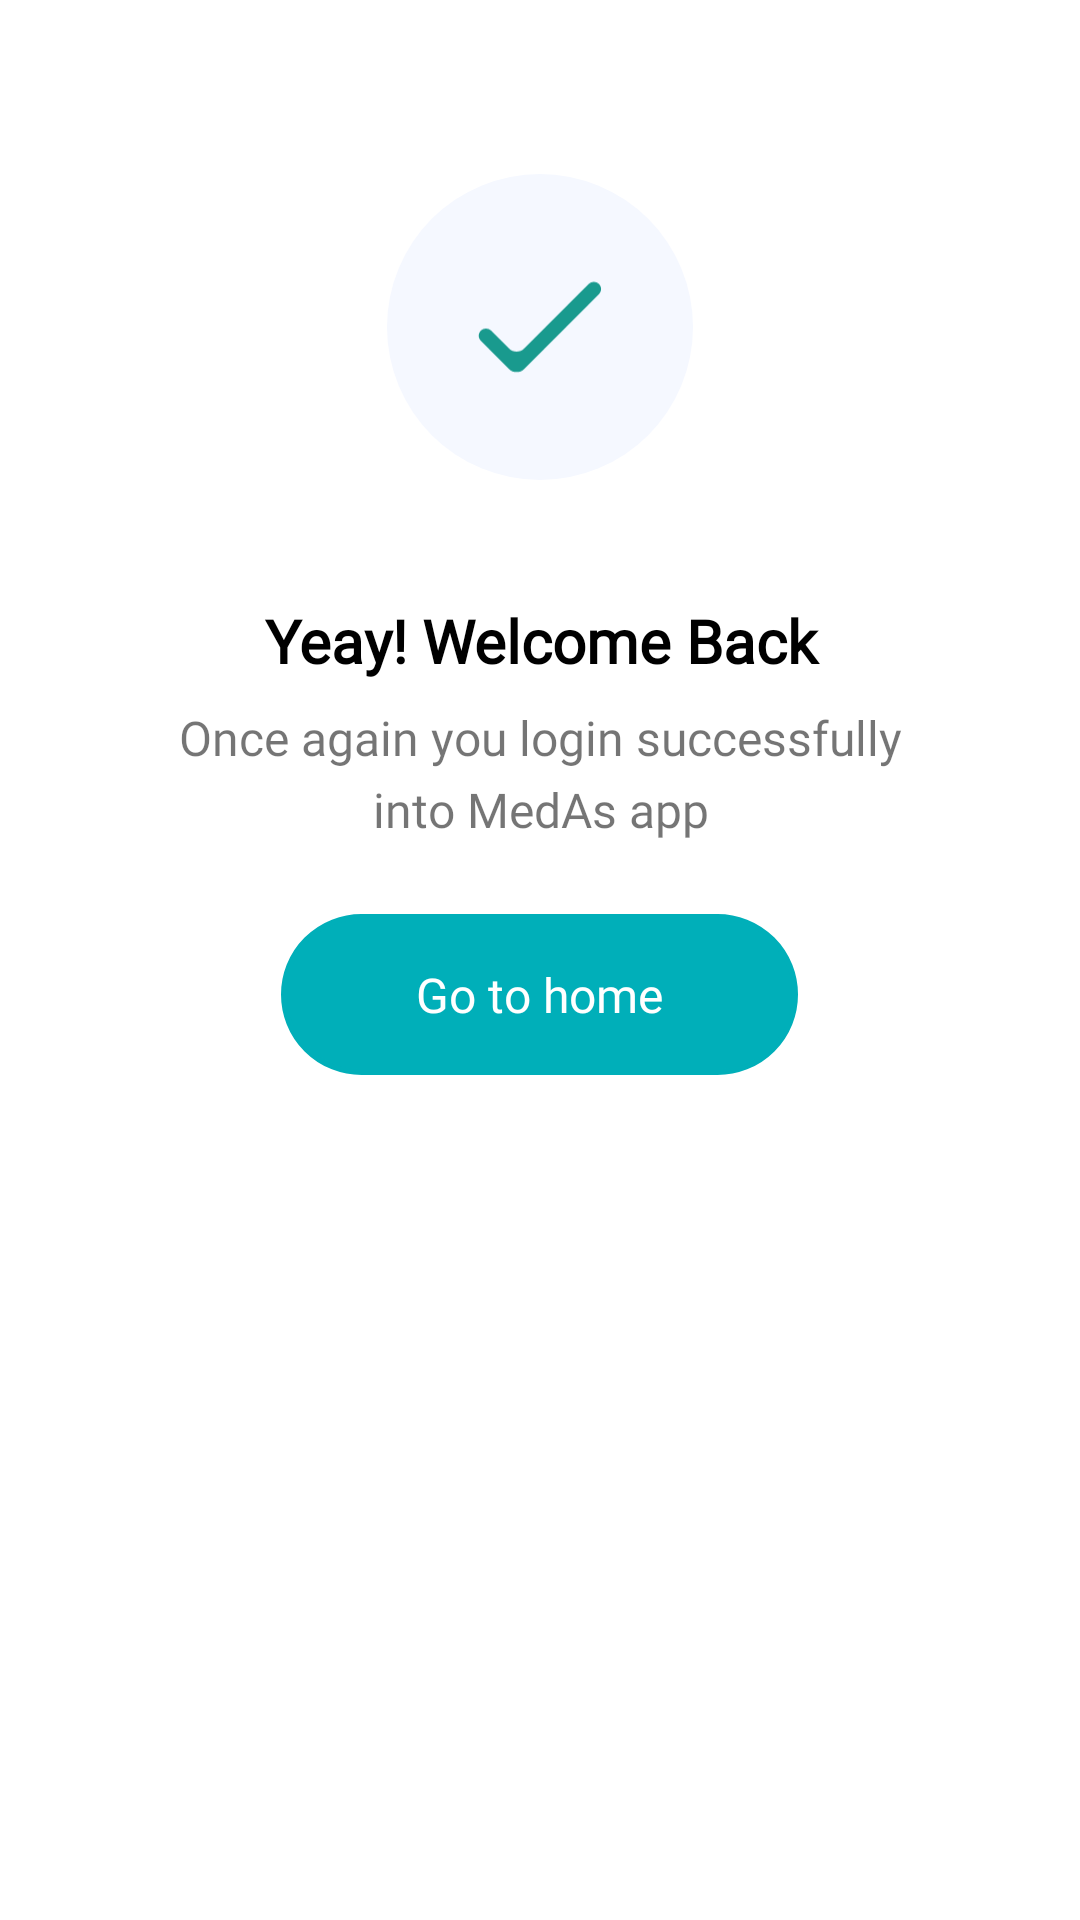

Icons on this 1080 × 1920 Android screen, each with the point to tap as [x,y]:
done: [540,327]
